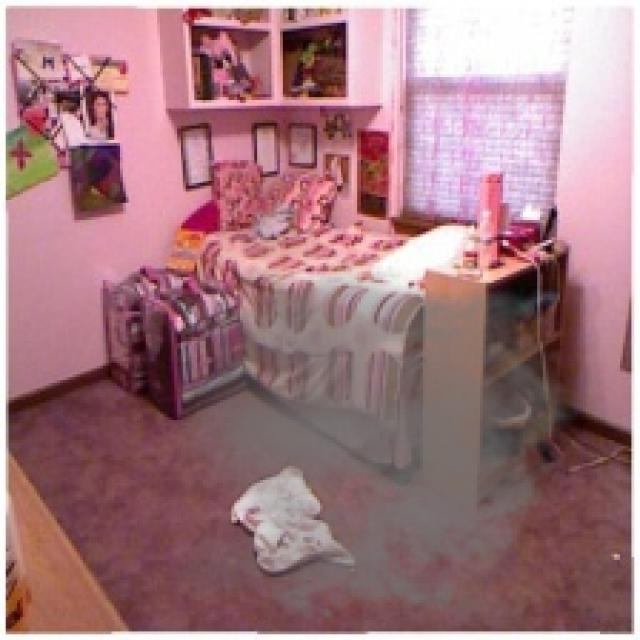smoke: (177, 266, 594, 631)
